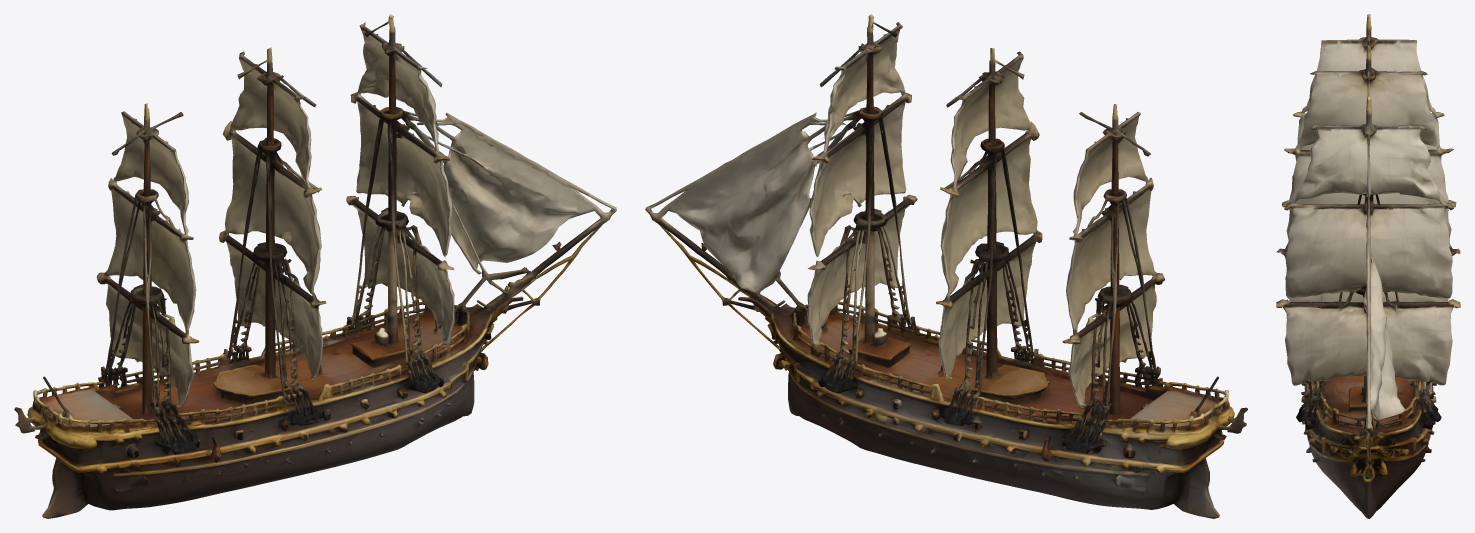
File: sailing-ship.glb
The picture shows the model from 3 angles, left to right: view 1: azimuth 30°, elevation 25°; view 2: azimuth 150°, elevation 25°; view 3: azimuth 270°, elevation 25°; orthographic projection. The views are drawn at different scales.
Visible parts, largest first — view 1: node_ded4ddd2-a935-47e9-b168-6db8ae71f6be; view 2: node_ded4ddd2-a935-47e9-b168-6db8ae71f6be; view 3: node_ded4ddd2-a935-47e9-b168-6db8ae71f6be.
Part boxes in pixels (box(x1,y1,x2,y2)): node_ded4ddd2-a935-47e9-b168-6db8ae71f6be: box(14, 14, 616, 518); node_ded4ddd2-a935-47e9-b168-6db8ae71f6be: box(645, 14, 1247, 518); node_ded4ddd2-a935-47e9-b168-6db8ae71f6be: box(1276, 14, 1460, 518).
Bounding box in the file's own units: 1 × 0.6684 × 0.2881.
1 material, 1 textured.
